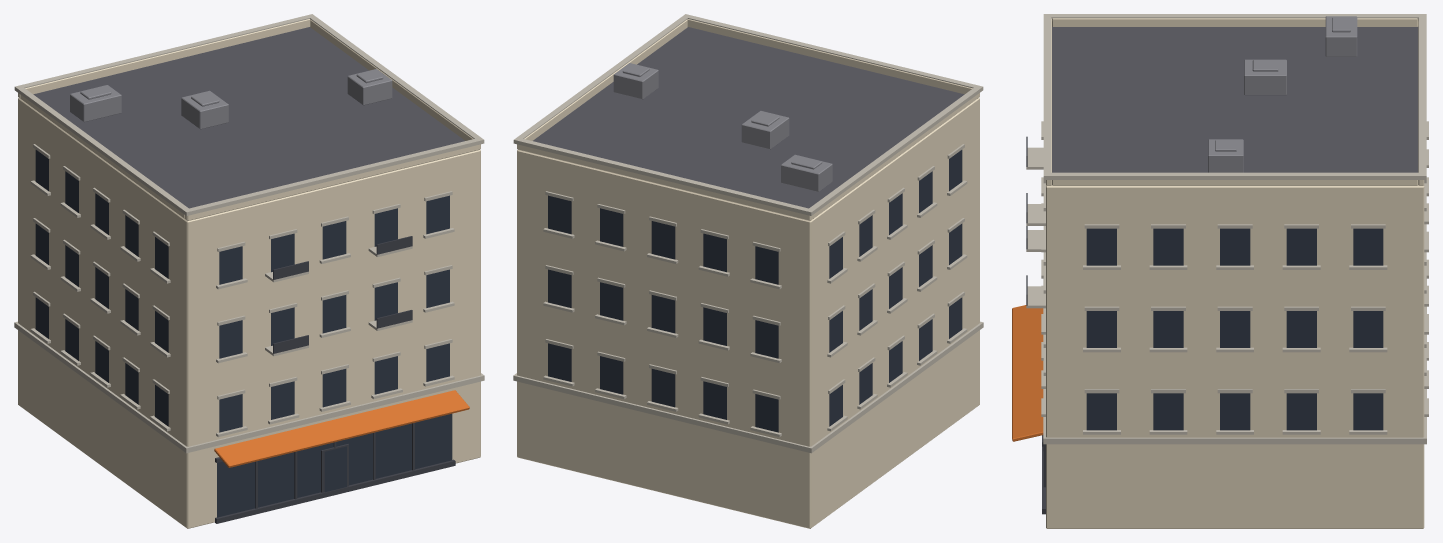
Rendered from Midrise.fbx.
3 renders of one model, left to right at view 1: azimuth 30°, elevation 25°; view 2: azimuth 150°, elevation 25°; view 3: azimuth 270°, elevation 25°, orthographic. The views are drawn at different scales.
Visible parts, largest first — view 1: Midrise_Body, Midrise_Roof, Midrise_Windows, Midrise_Trim, Midrise_Awning, Midrise_Frame, Midrise_RoofUnits, Midrise_Door; view 2: Midrise_Body, Midrise_Roof, Midrise_Windows, Midrise_Trim, Midrise_RoofUnits; view 3: Midrise_Body, Midrise_Roof, Midrise_Trim, Midrise_Windows, Midrise_RoofUnits, Midrise_Awning, Midrise_Frame.
Boxes of the visible parts, x1,y1,x2,y2 form: Midrise_Body: (18, 19, 480, 528); Midrise_Roof: (33, 27, 464, 208); Midrise_Windows: (35, 150, 452, 517); Midrise_Trim: (14, 14, 484, 453); Midrise_Awning: (214, 390, 469, 467); Midrise_Frame: (215, 236, 455, 523); Midrise_RoofUnits: (70, 69, 392, 129); Midrise_Door: (324, 446, 346, 492); Midrise_Body: (517, 19, 979, 528); Midrise_Roof: (533, 27, 964, 208); Midrise_Windows: (548, 150, 962, 432); Midrise_Trim: (513, 14, 983, 453); Midrise_RoofUnits: (613, 63, 832, 191); Midrise_Body: (1046, 18, 1424, 528); Midrise_Roof: (1052, 27, 1418, 172); Midrise_Trim: (1026, 14, 1428, 444); Midrise_Windows: (1086, 228, 1383, 430); Midrise_RoofUnits: (1208, 16, 1357, 172); Midrise_Awning: (1012, 305, 1043, 441); Midrise_Frame: (1026, 136, 1045, 514).
Bounding box in the file's own units: 51.2 × 53.7 × 55.07.
